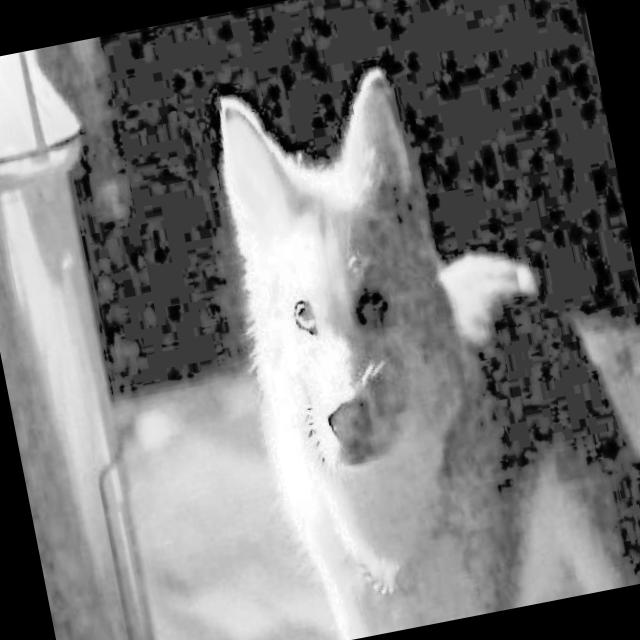Dog: (187, 23, 640, 640)
